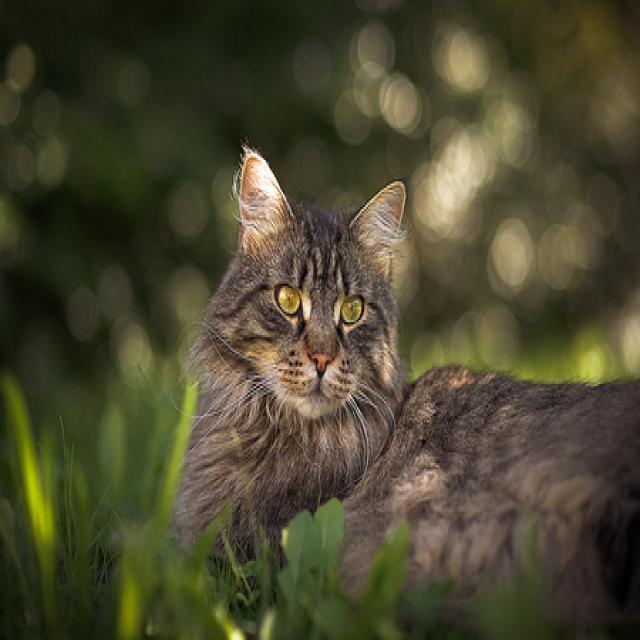Maine Coon: (166, 141, 640, 638)
